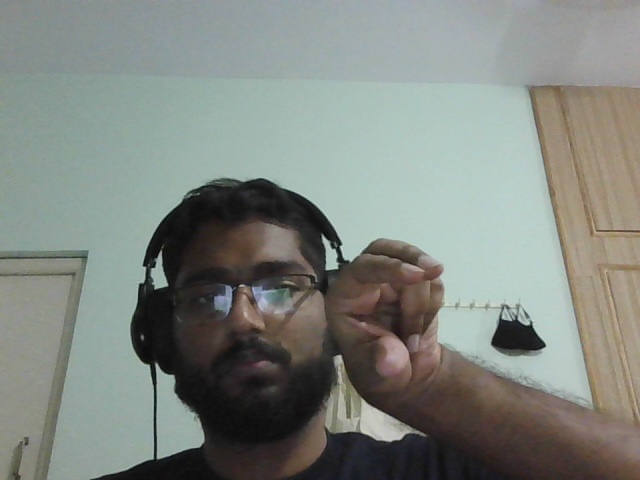No: (311, 232, 473, 421)
